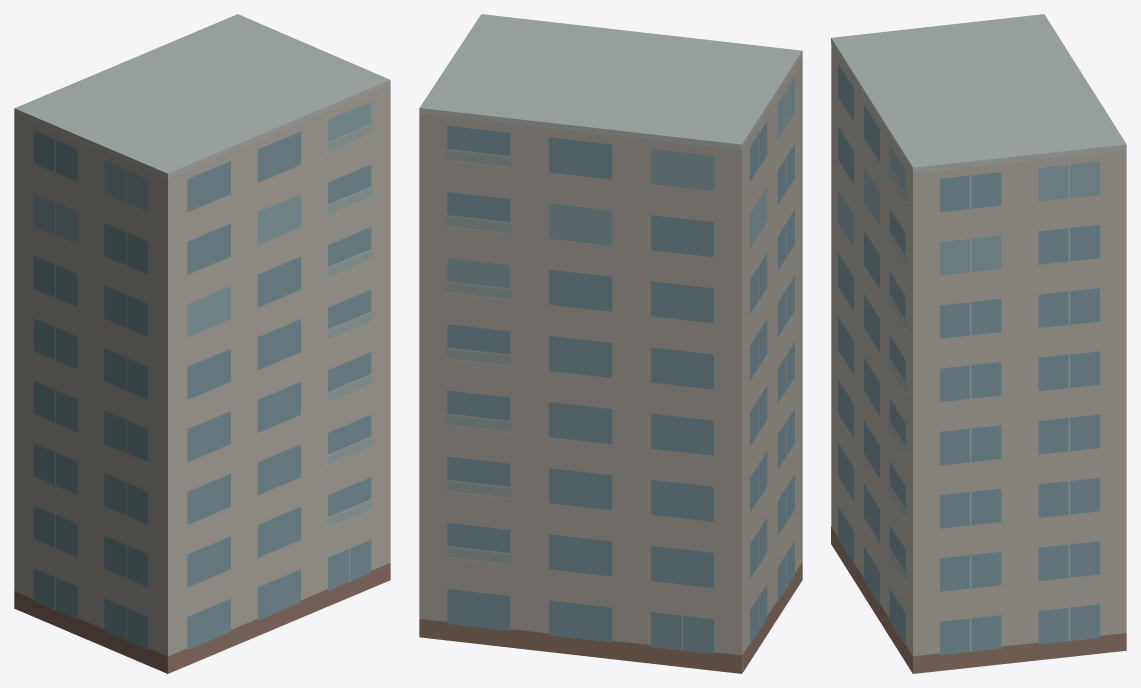
Rendered from survey-upis-32996991.glb.
3 renders of one model, left to right at view 1: azimuth 30°, elevation 25°; view 2: azimuth 150°, elevation 25°; view 3: azimuth 270°, elevation 25°, orthographic. The views are drawn at different scales.
Parts seen in each view (by area): view 1: survey-upis-32996991.tmp; view 2: survey-upis-32996991.tmp; view 3: survey-upis-32996991.tmp.
Part boxes in pixels (left/top/right/bottom): survey-upis-32996991.tmp: left=14, top=14, right=390, bottom=673; survey-upis-32996991.tmp: left=419, top=14, right=802, bottom=673; survey-upis-32996991.tmp: left=831, top=14, right=1126, bottom=673.
Bounding box in the file's own units: 15.05 × 23.1 × 12.24.
